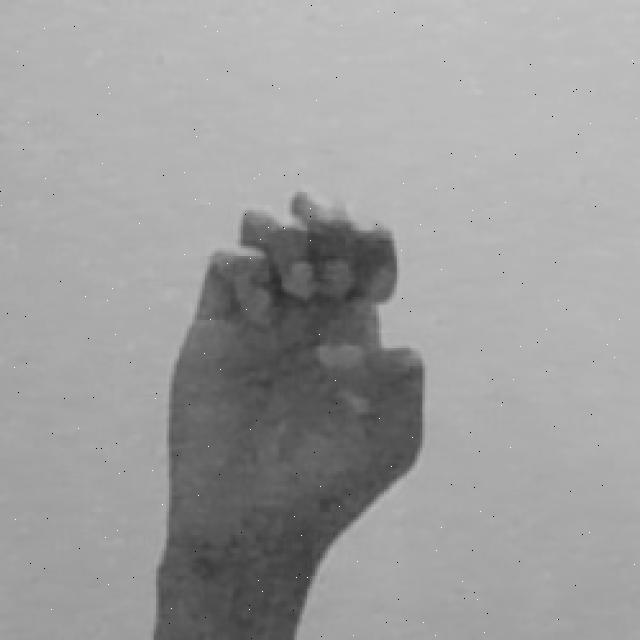E: (150, 188, 430, 640)
